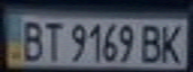1: (84, 20, 103, 62)
6: (103, 20, 121, 63)
9: (115, 20, 139, 63), (63, 20, 87, 62)
B: (15, 17, 48, 62), (136, 21, 166, 64)
K: (157, 20, 187, 63)
T: (39, 18, 66, 61)
